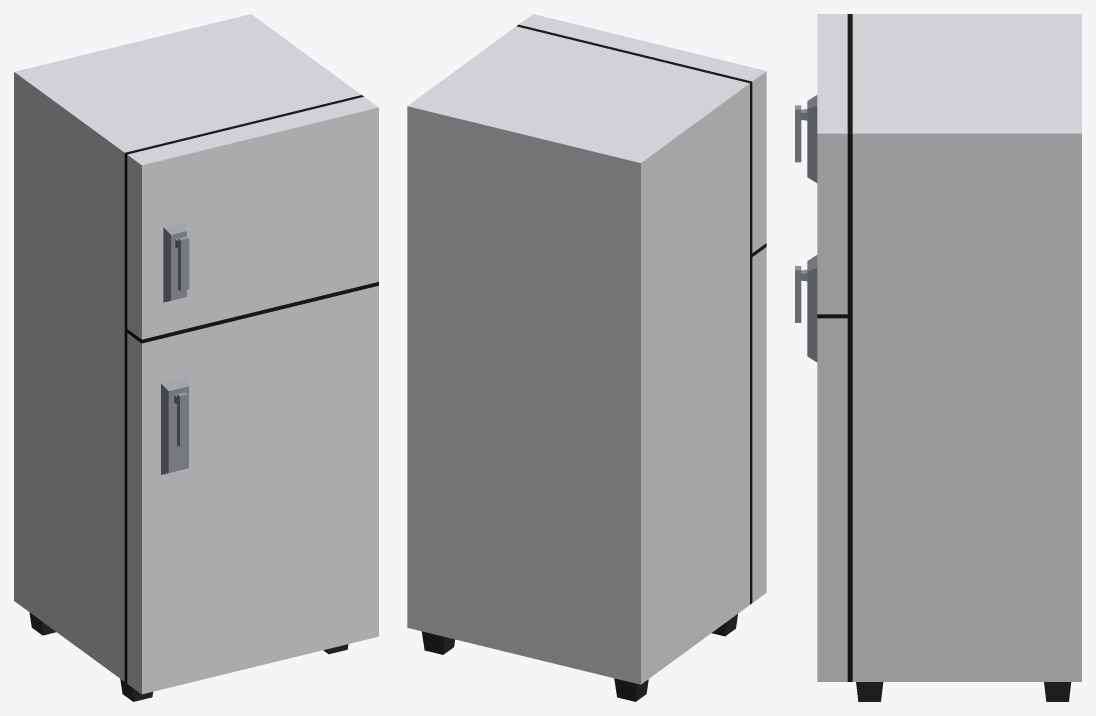
Rendered from Fridge_1.fbx.
3 renders of one model, left to right at view 1: azimuth 30°, elevation 25°; view 2: azimuth 150°, elevation 25°; view 3: azimuth 270°, elevation 25°, orthographic. The views are drawn at different scales.
Visible parts, largest first — view 1: polySurface1544; view 2: polySurface1544; view 3: polySurface1544.
Part boxes in pixels (x1,y1,x2,y2): polySurface1544: [14, 14, 378, 701]; polySurface1544: [407, 14, 766, 701]; polySurface1544: [795, 14, 1081, 701].
Size of the model in its own units: 1.5 by 3.35 by 1.52.
Materials: 1 (1 with a texture image).
